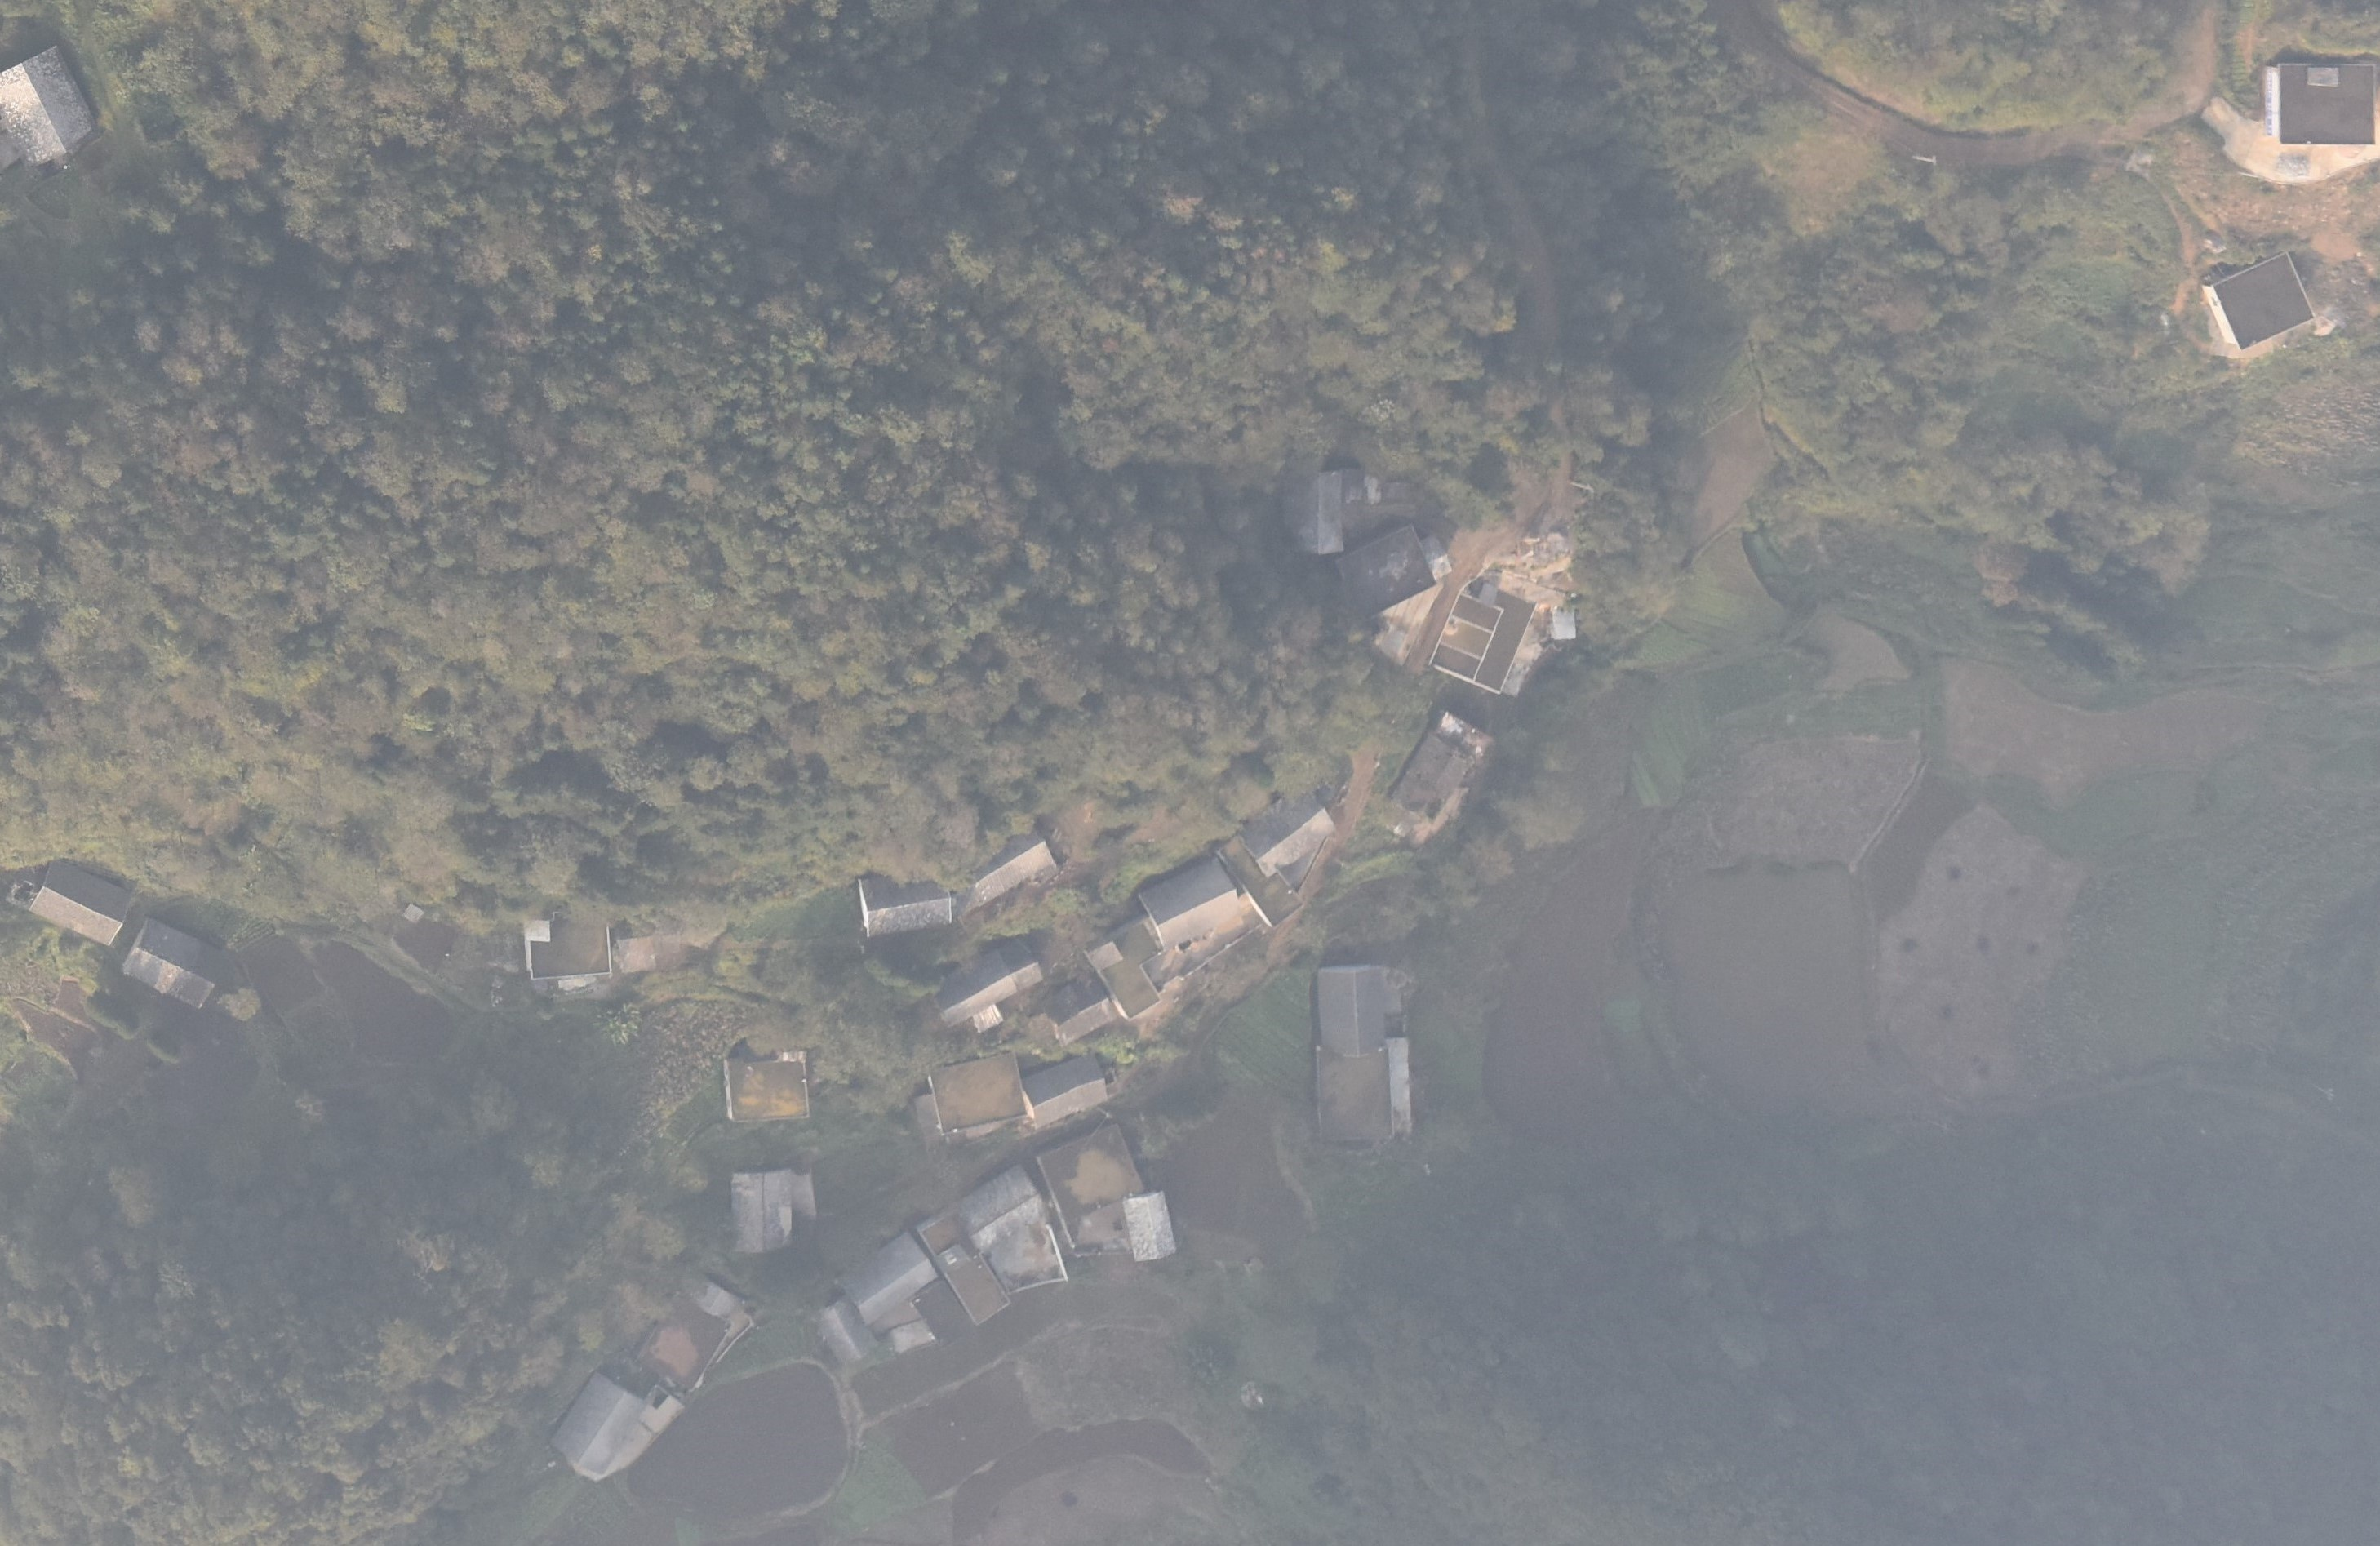building: (1033, 1121, 1190, 1268), (1414, 578, 1543, 703), (1, 50, 122, 169), (2202, 242, 2329, 354), (2252, 48, 2380, 153), (117, 912, 239, 1017), (913, 1207, 1016, 1328), (14, 855, 141, 952), (1331, 520, 1444, 629), (547, 1370, 649, 1482), (1234, 784, 1356, 878), (926, 938, 1055, 1025), (1081, 917, 1184, 1023), (840, 1223, 939, 1328), (639, 1290, 735, 1399), (957, 817, 1073, 905), (927, 1050, 1039, 1140), (1139, 854, 1241, 952), (1305, 1045, 1402, 1146), (950, 1162, 1052, 1255), (1217, 833, 1312, 928), (519, 899, 619, 987), (1014, 1051, 1120, 1128), (1279, 463, 1361, 560), (855, 867, 963, 940), (1314, 962, 1395, 1058), (720, 1048, 811, 1131), (1392, 731, 1468, 828), (726, 1162, 798, 1259), (1037, 984, 1112, 1042), (1125, 1189, 1184, 1263), (681, 1267, 749, 1329)
cable-tower: (1907, 148, 1943, 168)
